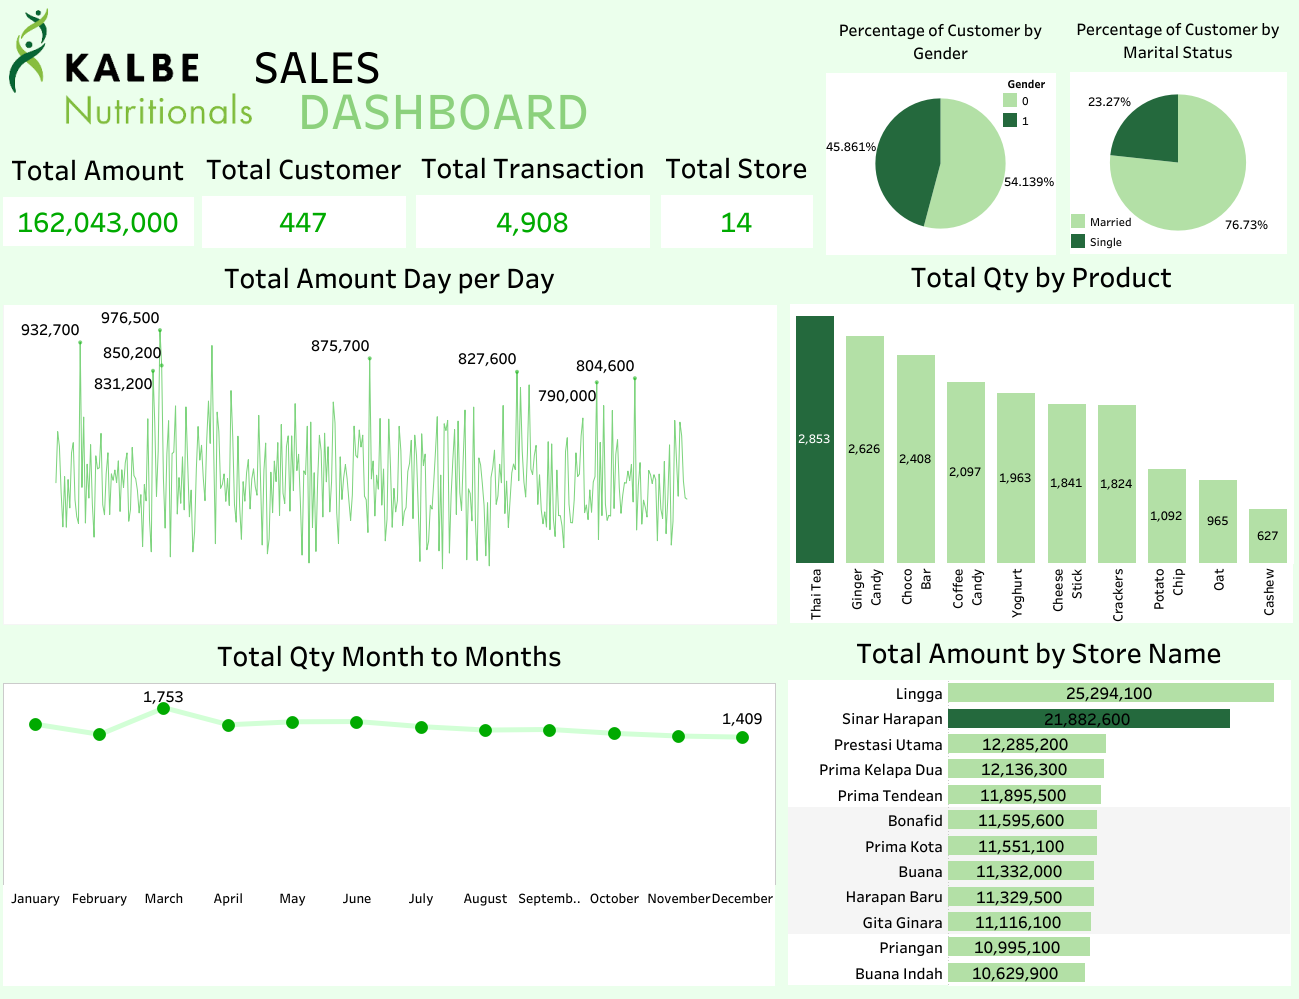

Layout of this report page (visuals, bound fields, positions):
{"tool":"tableau","page":{"name":"Sales Dashboard","canvas":[1300,1000],"ordinal":0},"visuals":[{"type":"image","param":"Image/images-removebg-preview.png","box":[9,8,243,118]},{"type":"worksheet","title":"Percentage of Customer by Marital Status","mark":"Pie","box":[1070,11,216,242]},{"type":"worksheet","title":"Percentage of Customer by Gender","mark":"Pie","box":[826,12,229,242]},{"type":"text","box":[251,46,193,38]},{"type":"legend","title":"Percentage of Customer by Gender","param":"[federated.1cie8ka1u7j4ku1c4rg0j0xex387].[none:Gender:nk]","box":[1000,74,51,59]},{"type":"text","box":[295,79,315,60]},{"type":"worksheet","title":"Total Transaction","mark":"Automatic","box":[416,142,234,105]},{"type":"worksheet","title":"Total Store","mark":"Automatic","box":[661,142,151,105]},{"type":"worksheet","title":"Total Customer","mark":"Automatic","box":[202,143,203,104]},{"type":"worksheet","title":"Total Amount","mark":"Automatic","box":[3,144,190,101]},{"type":"legend","title":"Percentage of Customer by Marital Status","param":"[federated.1cie8ka1u7j4ku1c4rg0j0xex387].[none:Marital Status:nk]","box":[1068,211,126,49]},{"type":"worksheet","title":"Total Qty by Product","mark":"Automatic","rows":["Qty"],"cols":["Product Name"],"box":[790,251,503,372]},{"type":"worksheet","title":"Total Amount Day per Day","mark":"Automatic","rows":["TotalAmount"],"cols":["Date"],"box":[3,252,773,372]},{"type":"worksheet","title":"Total Amount by Store Name","mark":"Automatic","rows":["StoreName"],"cols":["TotalAmount"],"box":[788,627,502,358]},{"type":"worksheet","title":"Total Qty Month to Months","mark":"Automatic","rows":["Qty","Qty"],"cols":["Date"],"box":[3,630,773,356.7]}]}

Visuals, with their boxes in screenshot pixels (x1, y1, x2, y2), scaled from the page's 1300x1000 canvas onto the 1299x999 screenshot:
image: (left=9, top=8, right=252, bottom=126)
"Percentage of Customer by Marital Status" worksheet (Pie marks): (left=1069, top=11, right=1285, bottom=253)
"Percentage of Customer by Gender" worksheet (Pie marks): (left=825, top=12, right=1054, bottom=254)
text: (left=251, top=46, right=444, bottom=84)
"Percentage of Customer by Gender" legend: (left=999, top=74, right=1050, bottom=133)
text: (left=295, top=79, right=610, bottom=139)
"Total Transaction" worksheet: (left=416, top=142, right=650, bottom=247)
"Total Store" worksheet: (left=660, top=142, right=811, bottom=247)
"Total Customer" worksheet: (left=202, top=143, right=405, bottom=247)
"Total Amount" worksheet: (left=3, top=144, right=193, bottom=245)
"Percentage of Customer by Marital Status" legend: (left=1067, top=211, right=1193, bottom=260)
"Total Qty by Product" worksheet: (left=789, top=251, right=1292, bottom=622)
"Total Amount Day per Day" worksheet: (left=3, top=252, right=775, bottom=623)
"Total Amount by Store Name" worksheet: (left=787, top=626, right=1289, bottom=984)
"Total Qty Month to Months" worksheet: (left=3, top=629, right=775, bottom=986)
